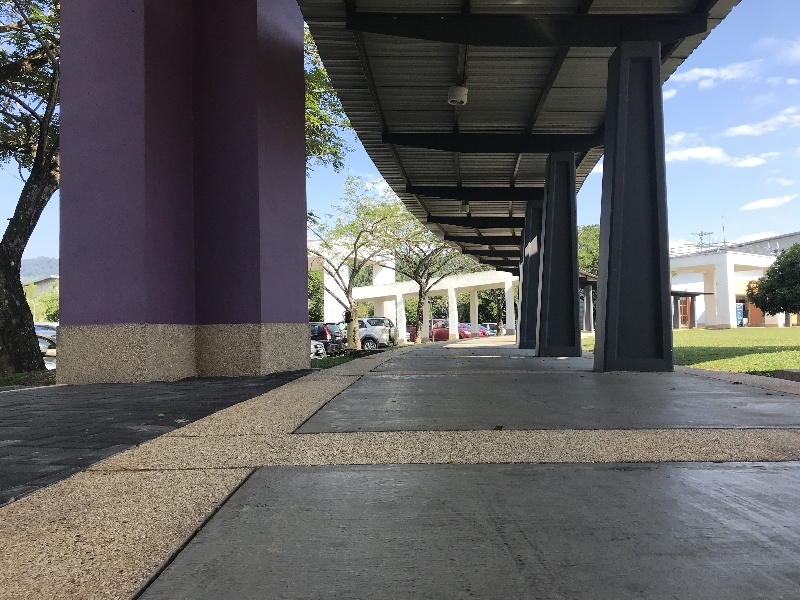Block D Pillar 6: (7, 9, 800, 565)
pillar: (43, 8, 315, 377), (592, 42, 674, 387), (522, 144, 586, 368)
